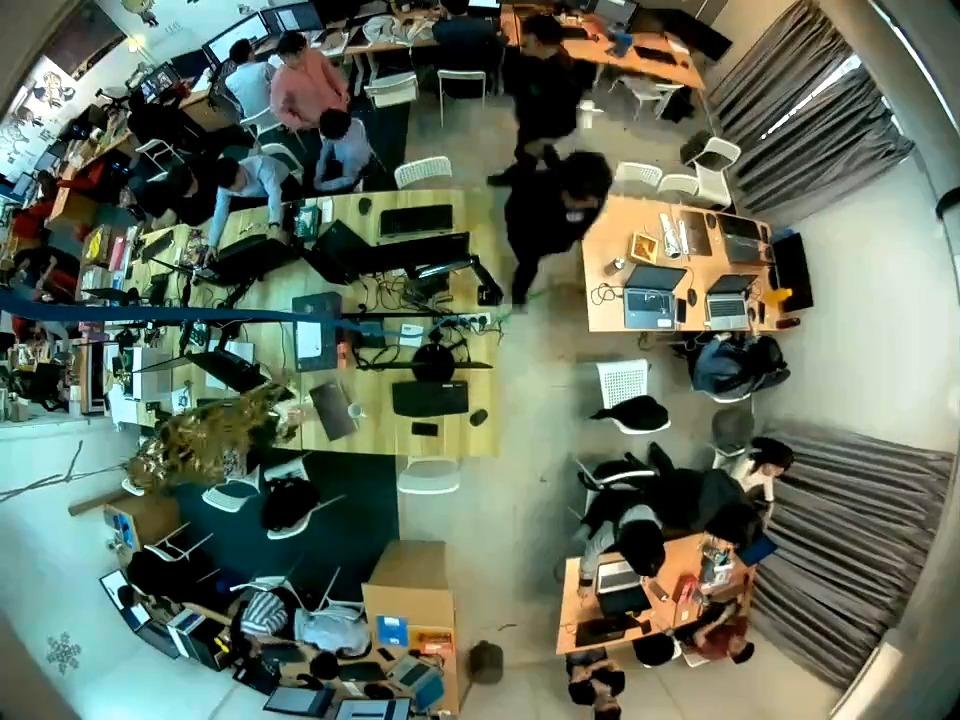name-tag: (563, 210, 585, 225)
